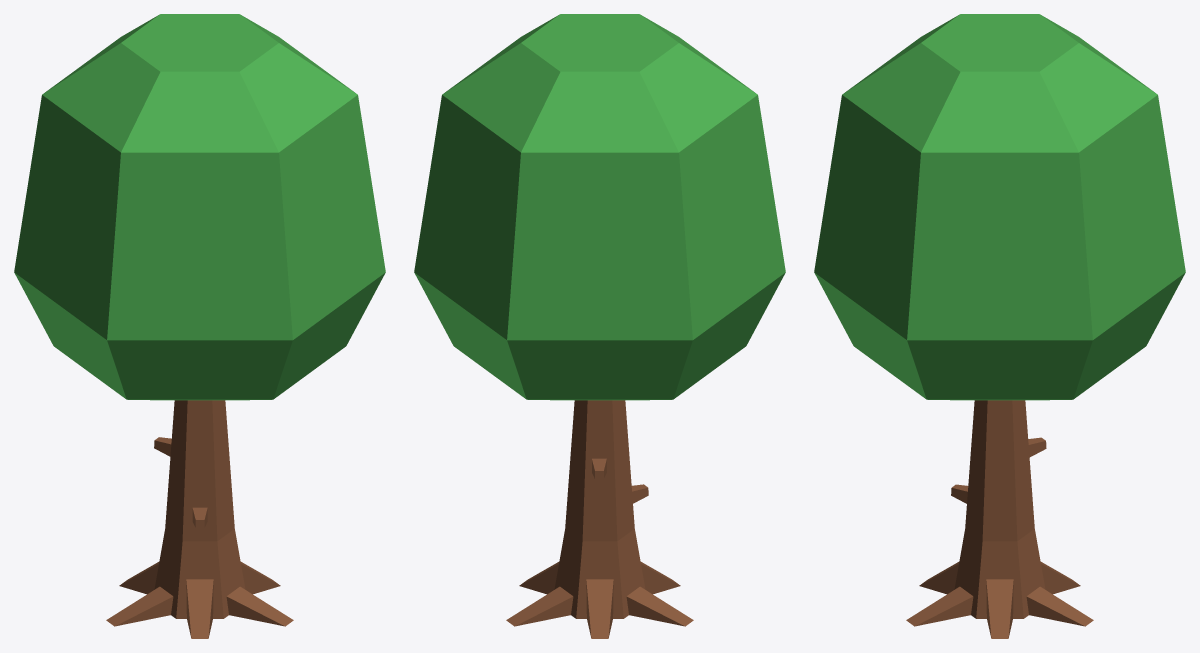
Rendered from tree_1.fbx.
3 views of the same model, side by side, from view 1: azimuth 30°, elevation 25°; view 2: azimuth 150°, elevation 25°; view 3: azimuth 270°, elevation 25° (orthographic).
Parts seen in each view (by area): view 1: tree_1; view 2: tree_1; view 3: tree_1.
Part boxes in pixels (<box>): tree_1: <box>14,14,385,638</box>; tree_1: <box>414,14,785,638</box>; tree_1: <box>814,14,1185,638</box>.
Bounding box in the file's own units: 0.6406 × 1.23 × 0.7396.
1 material, 1 textured.
